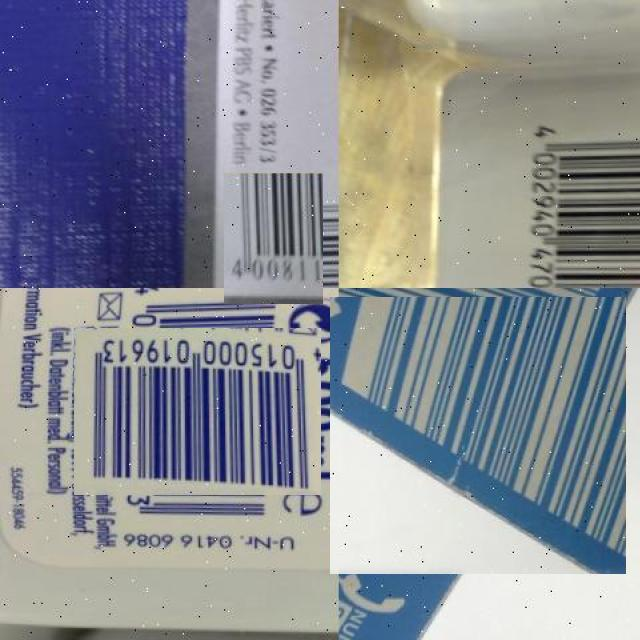Barcode: (334, 292, 622, 580), (94, 308, 301, 515), (493, 111, 640, 288), (216, 180, 331, 296)
